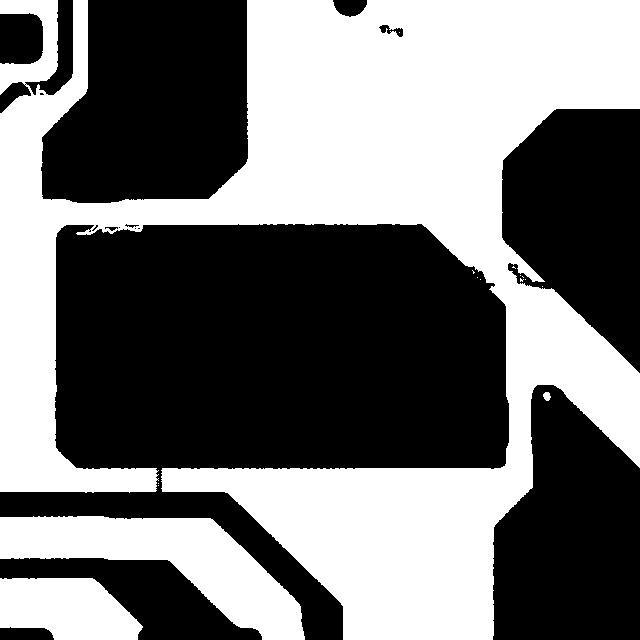copper: (369, 15, 412, 46)
mousebite: (66, 211, 152, 244)
open: (11, 69, 61, 116)
pin-hole: (533, 382, 560, 410)
short: (146, 446, 171, 510)
spur: (498, 253, 560, 298), (452, 254, 504, 298)
